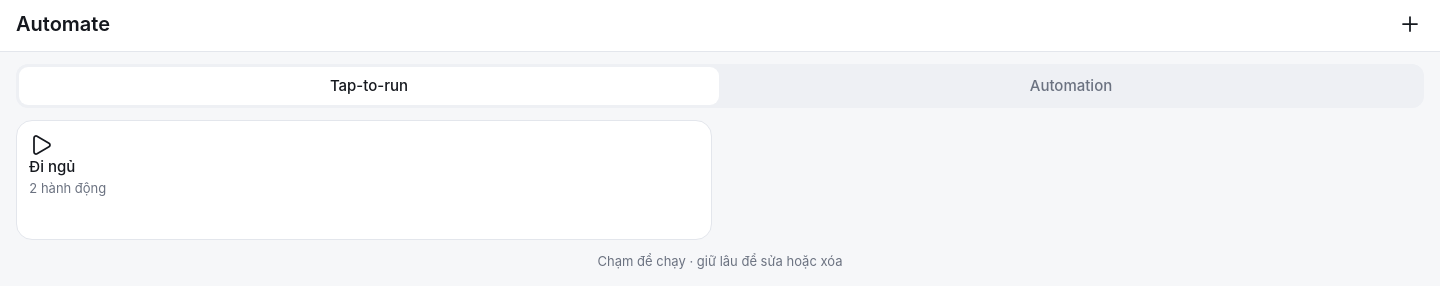
Automate scenes › partial run shows the Lỗi badge
The width and height of the screenshot is (1440, 286).
Click the button with aria-label "Chạy scene Đi ngủ".
click(52, 166)  # box x1=16 y1=120 x2=712 y2=240
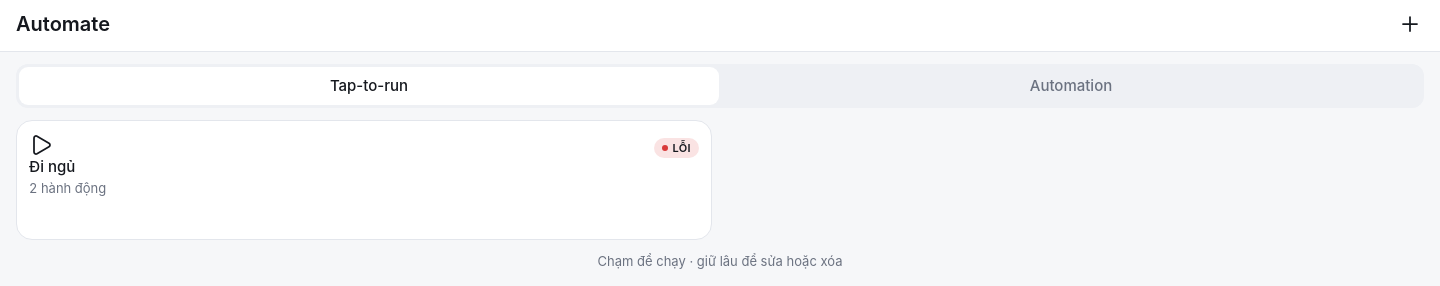
Expected: the text "Lỗi" is shown, x1=654 y1=138 x2=699 y2=158
